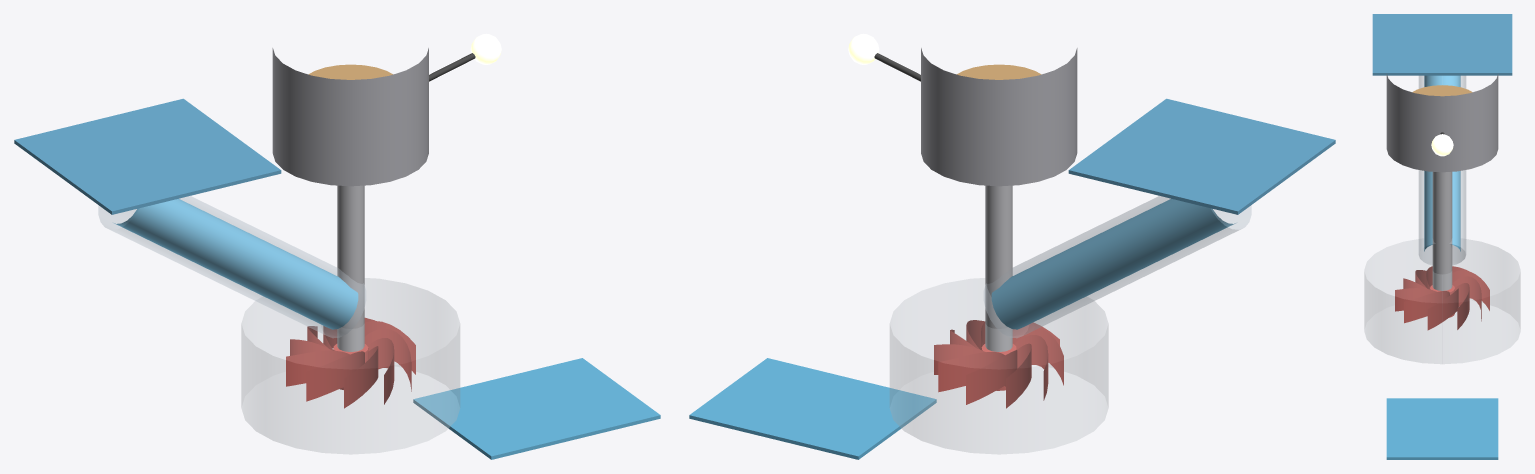
The model's file is turbina.glb.
3 views of the same model, side by side, from view 1: azimuth 30°, elevation 25°; view 2: azimuth 150°, elevation 25°; view 3: azimuth 270°, elevation 25° (orthographic). The views are drawn at different scales.
Visible parts, largest first — view 1: Carcasa_espiral, Embalse, Generador, Tuberia_forzada, Salida_de_agua, Agua_tuberia, Eje, Aspa_8, Aspa_7, Aspa_9, Bobinado, Aspa_1 (+2 smaller); view 2: Carcasa_espiral, Embalse, Generador, Tuberia_forzada, Salida_de_agua, Agua_tuberia, Eje, Aspa_5, Aspa_4, Aspa_6, Bobinado, Aspa_8 (+3 smaller); view 3: Carcasa_espiral, Embalse, Generador, Salida_de_agua, Tuberia_forzada, Eje, Agua_tuberia, Aspa_1, Aspa_2, Bobinado, Aspa_3, Aspa_0 (+4 smaller).
Part boxes in pixels (bbox=[...]): Carcasa_espiral: bbox=[241, 278, 459, 454]; Embalse: bbox=[14, 98, 281, 214]; Generador: bbox=[272, 48, 428, 186]; Tuberia_forzada: bbox=[98, 196, 365, 337]; Salida_de_agua: bbox=[413, 358, 660, 459]; Agua_tuberia: bbox=[114, 198, 358, 329]; Eje: bbox=[337, 185, 364, 351]; Aspa_8: bbox=[306, 351, 364, 401]; Aspa_7: bbox=[286, 350, 349, 386]; Aspa_9: bbox=[344, 346, 378, 408]; Bobinado: bbox=[308, 64, 392, 79]; Aspa_1: bbox=[364, 328, 411, 391]; Carcasa_espiral: bbox=[890, 278, 1108, 454]; Embalse: bbox=[1068, 98, 1335, 214]; Generador: bbox=[921, 48, 1077, 186]; Tuberia_forzada: bbox=[984, 196, 1251, 337]; Salida_de_agua: bbox=[689, 358, 936, 459]; Agua_tuberia: bbox=[991, 198, 1235, 329]; Eje: bbox=[985, 185, 1012, 351]; Aspa_5: bbox=[966, 350, 1017, 404]; Aspa_4: bbox=[938, 352, 1005, 392]; Aspa_6: bbox=[1006, 343, 1031, 408]; Bobinado: bbox=[957, 64, 1041, 79]; Aspa_8: bbox=[1012, 326, 1063, 385]; Carcasa_espiral: bbox=[1364, 239, 1520, 363]; Embalse: bbox=[1372, 14, 1512, 75]; Generador: bbox=[1386, 74, 1498, 172]; Salida_de_agua: bbox=[1386, 398, 1498, 459]; Tuberia_forzada: bbox=[1419, 76, 1465, 264]; Eje: bbox=[1432, 172, 1452, 290]; Agua_tuberia: bbox=[1424, 75, 1460, 251]; Aspa_1: bbox=[1404, 291, 1449, 323]; Aspa_2: bbox=[1427, 288, 1458, 330]; Bobinado: bbox=[1412, 85, 1472, 96]; Aspa_3: bbox=[1455, 283, 1469, 329]; Aspa_0: bbox=[1395, 288, 1436, 311].
Bounding box in the file's own units: 1.65 × 1.16 × 0.56.
